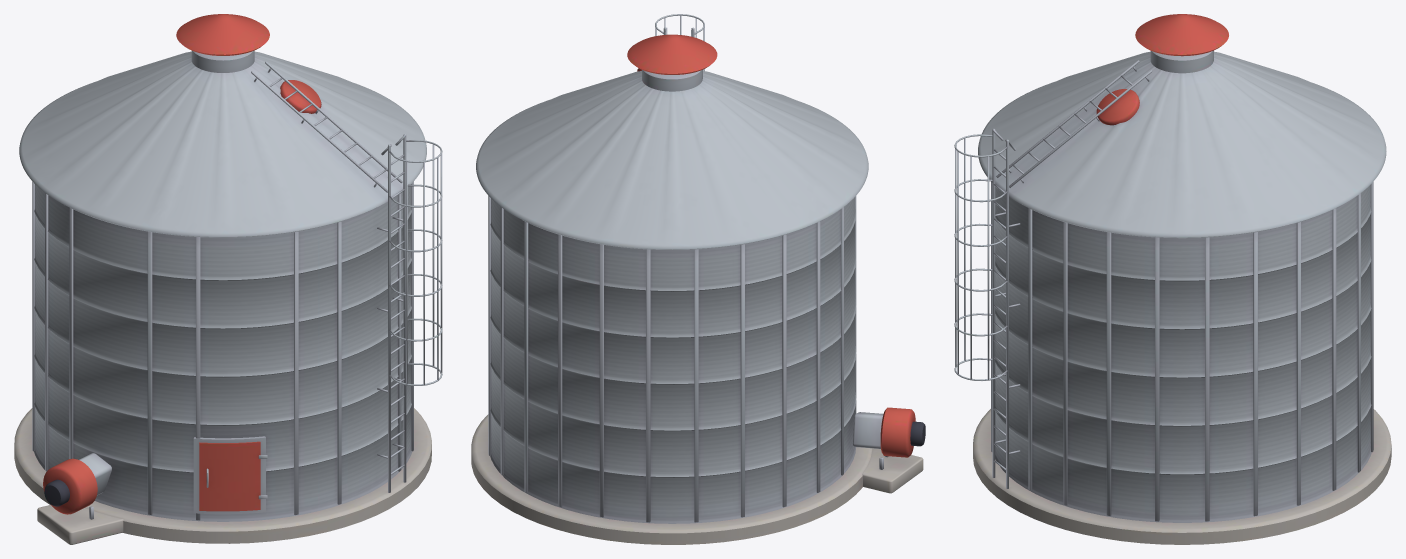
File: grain-bin.glb
The picture shows the model from 3 angles, left to right: view 1: azimuth 30°, elevation 25°; view 2: azimuth 150°, elevation 25°; view 3: azimuth 270°, elevation 25°; orthographic projection. The views are drawn at different scales.
Visible parts, largest first — view 1: grain-bin_body; view 2: grain-bin_body; view 3: grain-bin_body.
Boxes of the visible parts, x1,y1,x2,y2 form: grain-bin_body: (14,14,442,544); grain-bin_body: (471,14,925,544); grain-bin_body: (954,14,1391,544).
Size of the model in its own units: 7.3 by 7.67 by 6.89.
1 material, 1 textured.
